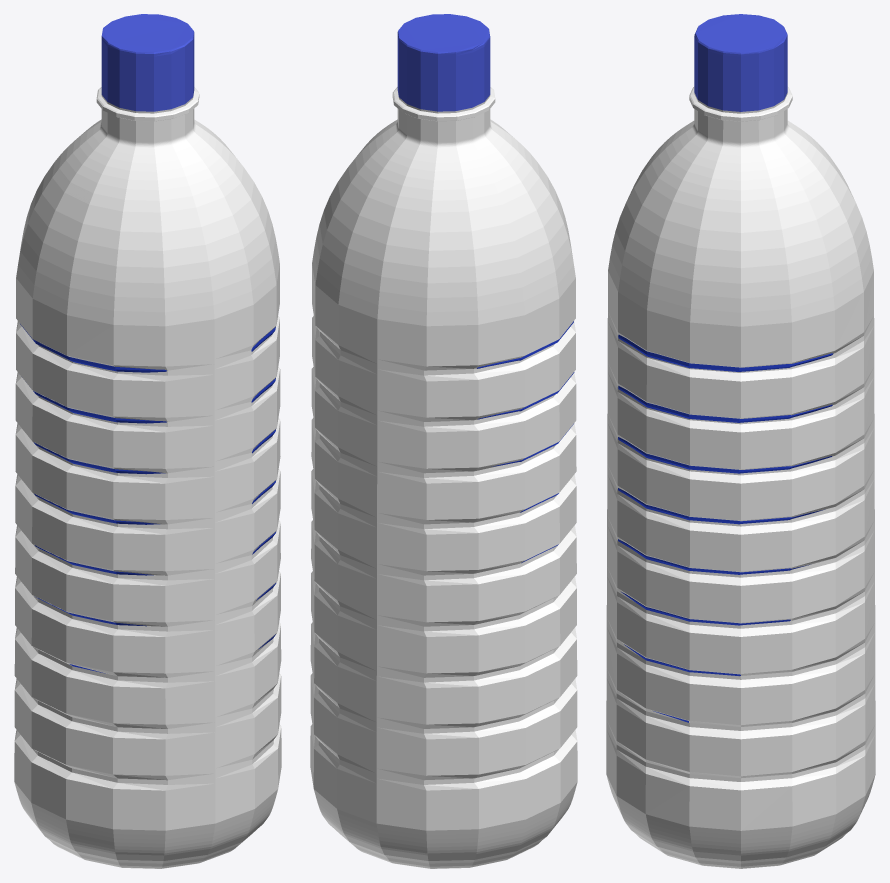
The model's file is water.FBX.
The picture shows the model from 3 angles, left to right: view 1: azimuth 30°, elevation 25°; view 2: azimuth 150°, elevation 25°; view 3: azimuth 270°, elevation 25°; orthographic projection.
Parts seen in each view (by area): view 1: Line002, water001; view 2: Line002, water001; view 3: Line002, water001.
Part boxes in pixels (x1=…): Line002: x1=14, y1=14, x2=281, y2=868; water001: x1=20, y1=324, x2=276, y2=673; Line002: x1=310, y1=14, x2=577, y2=868; water001: x1=476, y1=321, x2=574, y2=563; Line002: x1=606, y1=14, x2=875, y2=868; water001: x1=618, y1=335, x2=833, y2=722.
Bounding box in the file's own units: 165 × 537 × 165.
